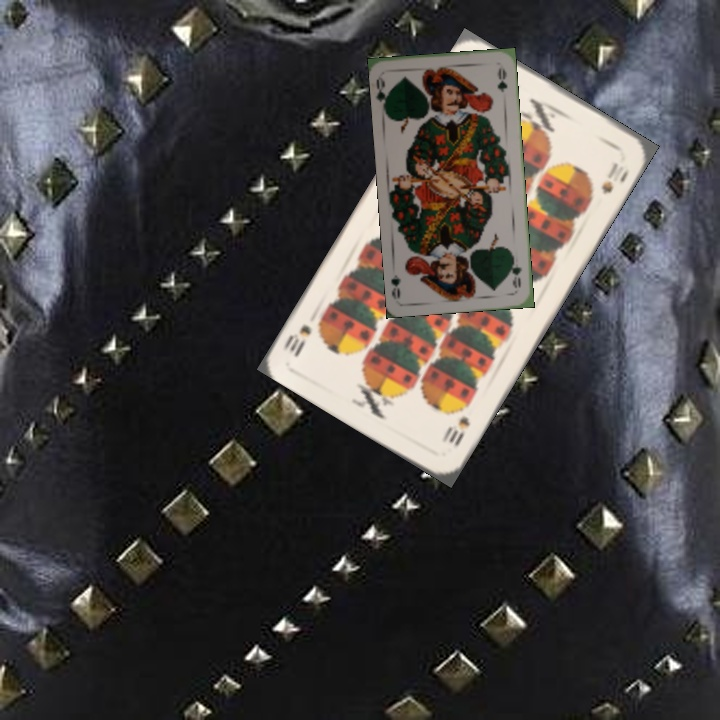GO: (372, 72, 393, 113), (507, 252, 524, 290)
S10: (438, 412, 473, 449)
